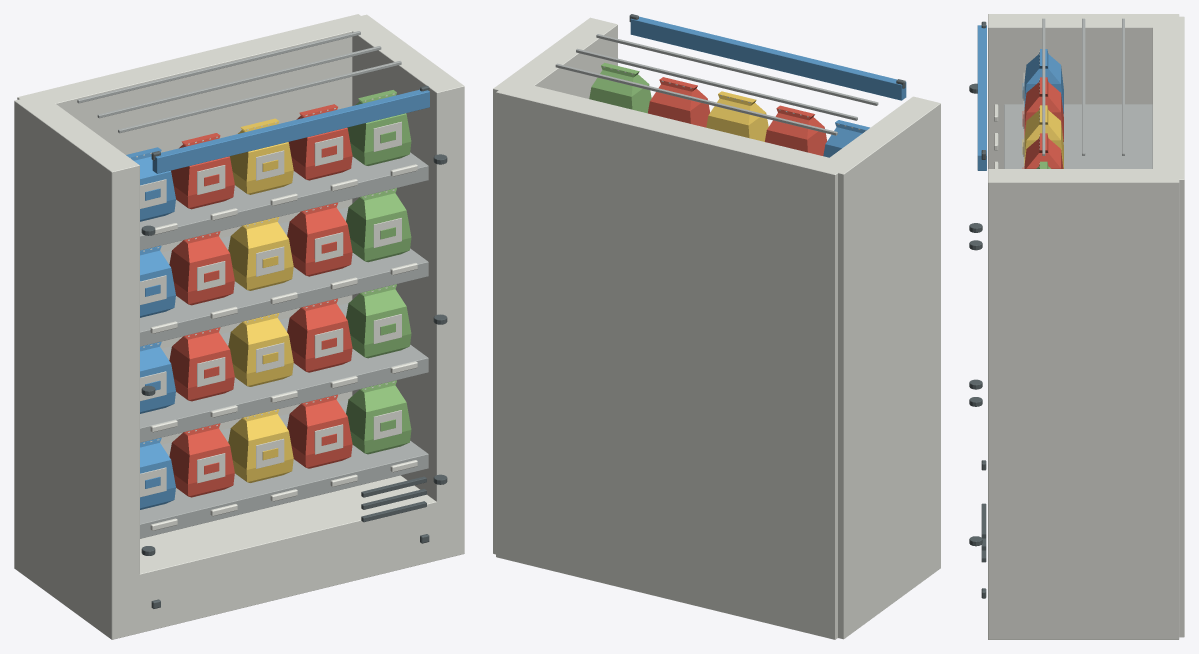
File: Fridge_OpenDisplay.fbx
3 views of the same model, side by side, from view 1: azimuth 30°, elevation 25°; view 2: azimuth 150°, elevation 25°; view 3: azimuth 270°, elevation 25° (orthographic). The views are drawn at different scales.
Parts seen in each view (by area): view 1: Fridge_OpenDisplay__LPCXFER, Fridge_OpenDisplay_Item_03_bag__LPCXFER, Fridge_OpenDisplay_Item_08_bag__LPCXFER, Fridge_OpenDisplay_Item_10_bag__LPCXFER, Fridge_OpenDisplay_Item_02_bag__LPCXFER, Fridge_OpenDisplay_Item_12_bag__LPCXFER, Fridge_OpenDisplay_Item_13_bag__LPCXFER, Fridge_OpenDisplay_Item_14_bag__LPCXFER, Fridge_OpenDisplay_Item_05_bag__LPCXFER, Fridge_OpenDisplay_Item_07_bag__LPCXFER, Fridge_OpenDisplay_Item_09_bag__LPCXFER, Fridge_OpenDisplay_Item_04_bag__LPCXFER (+9 smaller); view 2: Fridge_OpenDisplay__LPCXFER, Fridge_OpenDisplay_Item_18_bag__LPCXFER, Fridge_OpenDisplay_Item_20_bag__LPCXFER, Fridge_OpenDisplay_Item_17_bag__LPCXFER, Fridge_OpenDisplay_Item_19_bag__LPCXFER, Fridge_OpenDisplay_Item_16_bag__LPCXFER; view 3: Fridge_OpenDisplay__LPCXFER, Fridge_OpenDisplay_Item_16_bag__LPCXFER, Fridge_OpenDisplay_Item_17_bag__LPCXFER, Fridge_OpenDisplay_Item_18_bag__LPCXFER, Fridge_OpenDisplay_Item_19_bag__LPCXFER.
Boxes of the visible parts, box(x1,y1,x2,y2) form: Fridge_OpenDisplay__LPCXFER: box(14, 14, 464, 639); Fridge_OpenDisplay_Item_03_bag__LPCXFER: box(228, 409, 293, 482); Fridge_OpenDisplay_Item_08_bag__LPCXFER: box(228, 313, 293, 386); Fridge_OpenDisplay_Item_10_bag__LPCXFER: box(346, 284, 411, 358); Fridge_OpenDisplay_Item_02_bag__LPCXFER: box(169, 423, 234, 497); Fridge_OpenDisplay_Item_12_bag__LPCXFER: box(169, 231, 234, 305); Fridge_OpenDisplay_Item_13_bag__LPCXFER: box(228, 217, 293, 290); Fridge_OpenDisplay_Item_14_bag__LPCXFER: box(287, 202, 352, 276); Fridge_OpenDisplay_Item_05_bag__LPCXFER: box(346, 380, 411, 454); Fridge_OpenDisplay_Item_07_bag__LPCXFER: box(169, 327, 234, 401); Fridge_OpenDisplay_Item_09_bag__LPCXFER: box(287, 298, 352, 372); Fridge_OpenDisplay_Item_04_bag__LPCXFER: box(287, 394, 352, 468); Fridge_OpenDisplay__LPCXFER: box(493, 14, 940, 639); Fridge_OpenDisplay_Item_18_bag__LPCXFER: box(706, 91, 768, 141); Fridge_OpenDisplay_Item_20_bag__LPCXFER: box(589, 62, 651, 113); Fridge_OpenDisplay_Item_17_bag__LPCXFER: box(765, 105, 826, 155); Fridge_OpenDisplay_Item_19_bag__LPCXFER: box(648, 77, 710, 127); Fridge_OpenDisplay_Item_16_bag__LPCXFER: box(823, 120, 869, 157); Fridge_OpenDisplay__LPCXFER: box(969, 14, 1184, 639); Fridge_OpenDisplay_Item_16_bag__LPCXFER: box(1022, 49, 1063, 113); Fridge_OpenDisplay_Item_17_bag__LPCXFER: box(1022, 77, 1063, 141); Fridge_OpenDisplay_Item_18_bag__LPCXFER: box(1022, 105, 1063, 168); Fridge_OpenDisplay_Item_19_bag__LPCXFER: box(1022, 133, 1063, 168).
Size of the model in its own units: 150 by 195 by 81.
